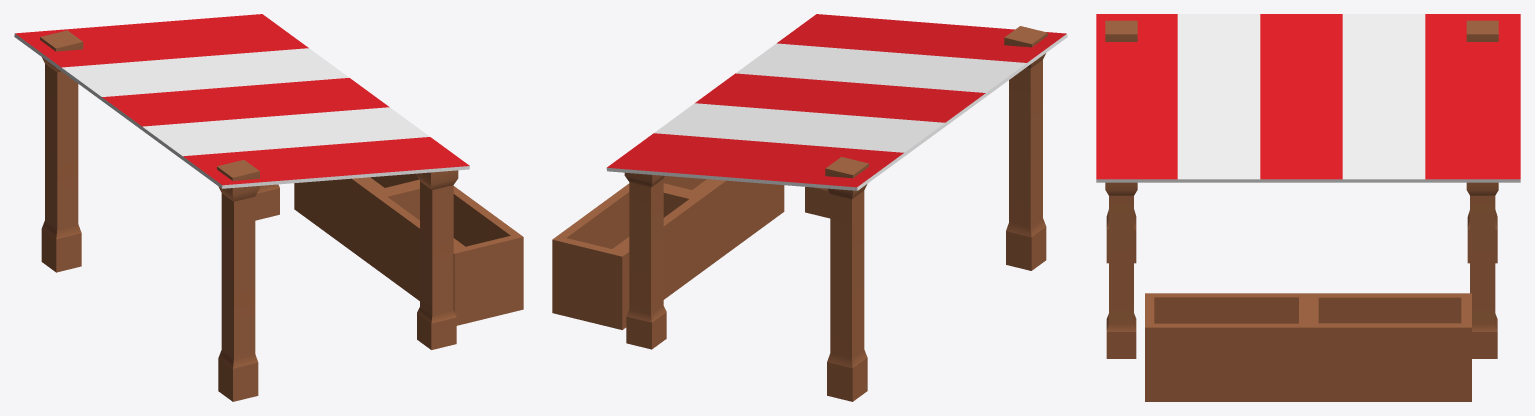
The model's file is model_shopStand1.fbx.
3 views of the same model, side by side, from view 1: azimuth 30°, elevation 25°; view 2: azimuth 150°, elevation 25°; view 3: azimuth 270°, elevation 25° (orthographic). The views are drawn at different scales.
Visible parts, largest first — view 1: pCube12; view 2: pCube12; view 3: pCube12.
Part boxes in pixels (x1,y1,x2,y2): pCube12: [14, 14, 523, 401]; pCube12: [552, 14, 1067, 401]; pCube12: [1096, 14, 1520, 401].
Size of the model in its own units: 4.69 by 3.1 by 5.18.
